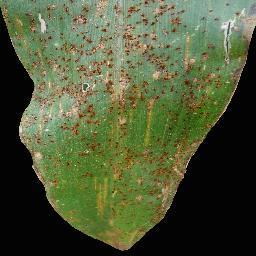Corn_Common_Rust: (0, 0, 254, 253)
